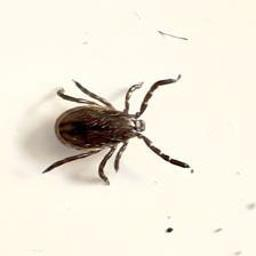Ixodes scapularis: (42, 74, 187, 184)
